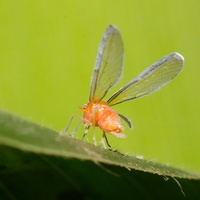insect: (65, 25, 183, 144)
